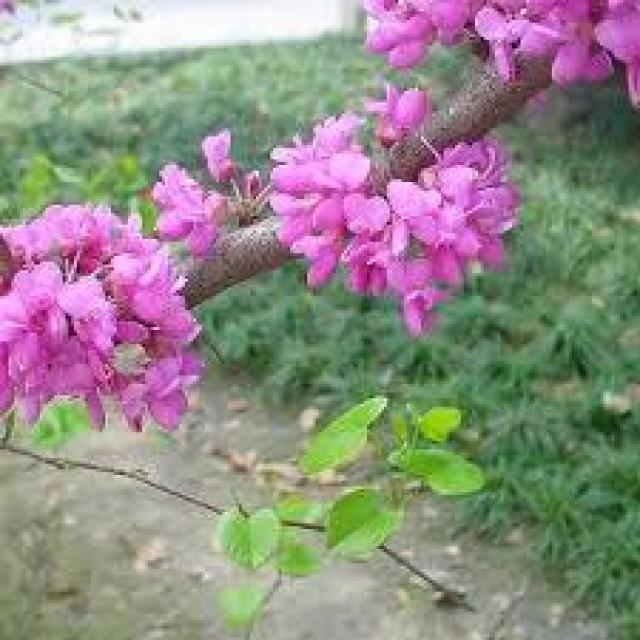organic waste: (255, 108, 499, 319), (7, 210, 186, 430), (357, 5, 639, 100)
